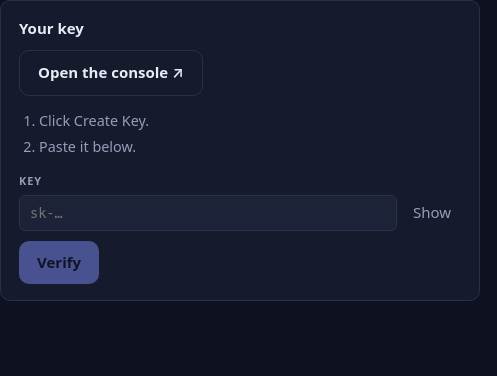
it: CaptureCard › catches a wrong-shaped paste instantly and blocks the verify
Type "xoxb-wrong" into the password field labelled "Key Show".
click(208, 213); type("xoxb-wrong")  # box [19, 195, 397, 231]
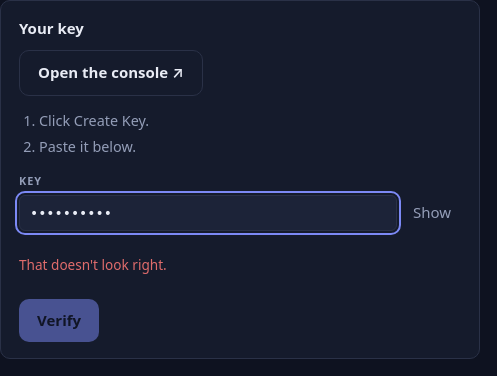
Expected: the button "Verify" is disabled, [19, 299, 99, 342]
Expected: the text "That doesn't look right." is shown, [19, 254, 167, 275]
